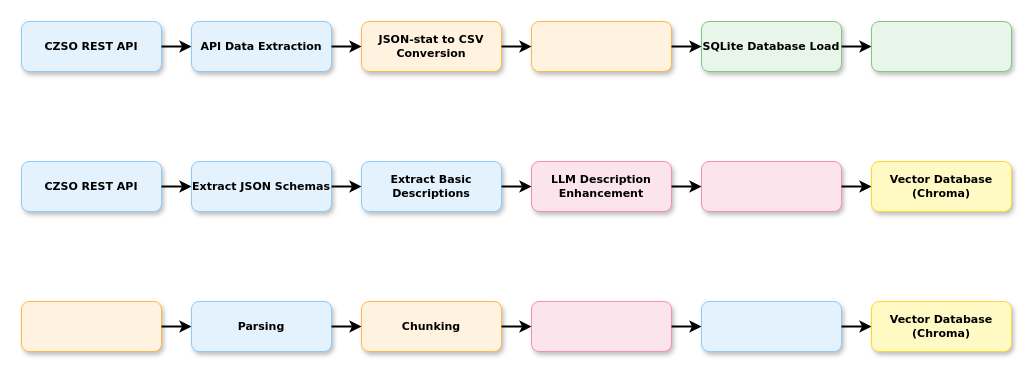
The diagram is 1035 pixels wide and 376 high, and some of its shapes have lost their labels. The shapes that lost their labels are listed below. From the top down, each one's centre as x and y in pixels, then its label:
pixel 602 47: CSV Files
pixel 942 47: Cloud or Local SQLite Database
pixel 772 187: Generate Vector Embeddings
pixel 92 327: PDF
pixel 602 327: Embedding
pixel 772 327: Retrieval
